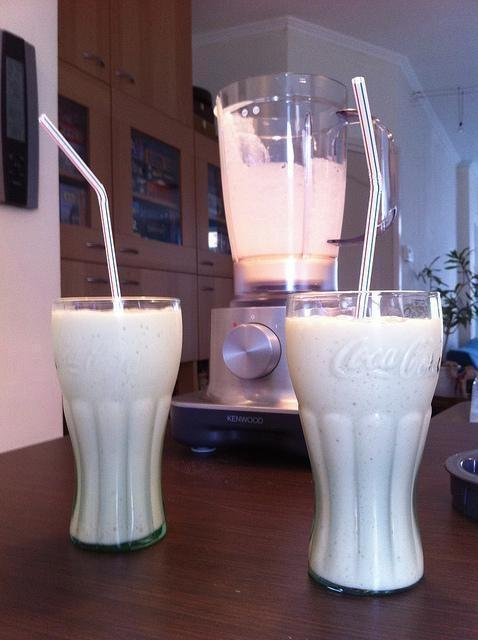glass-normal: (286, 284, 445, 596), (50, 294, 182, 551), (214, 72, 350, 303)
